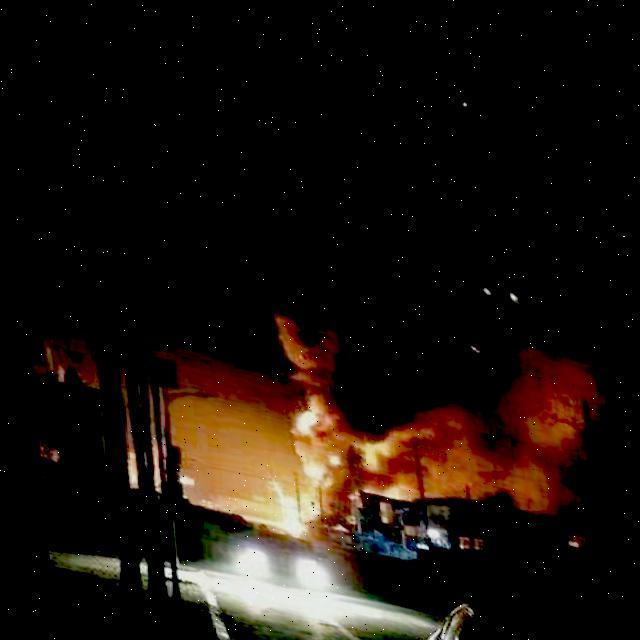Fire: (282, 391, 399, 492)
